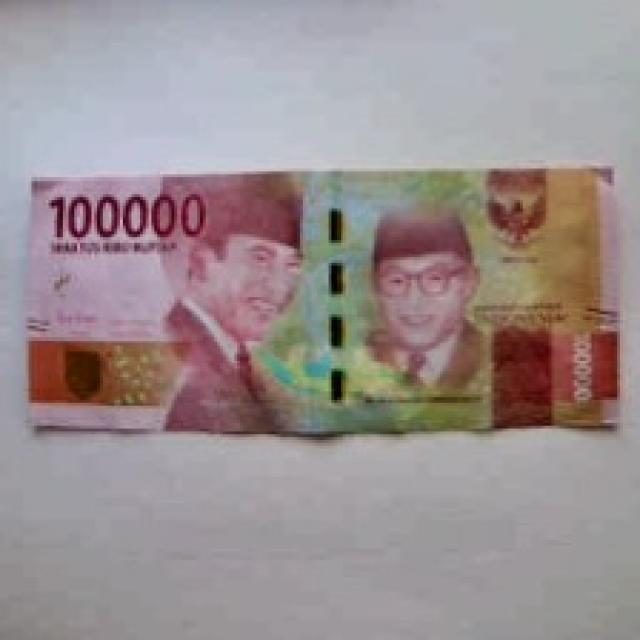lima puluh ribu rupiah: (19, 156, 640, 442)
